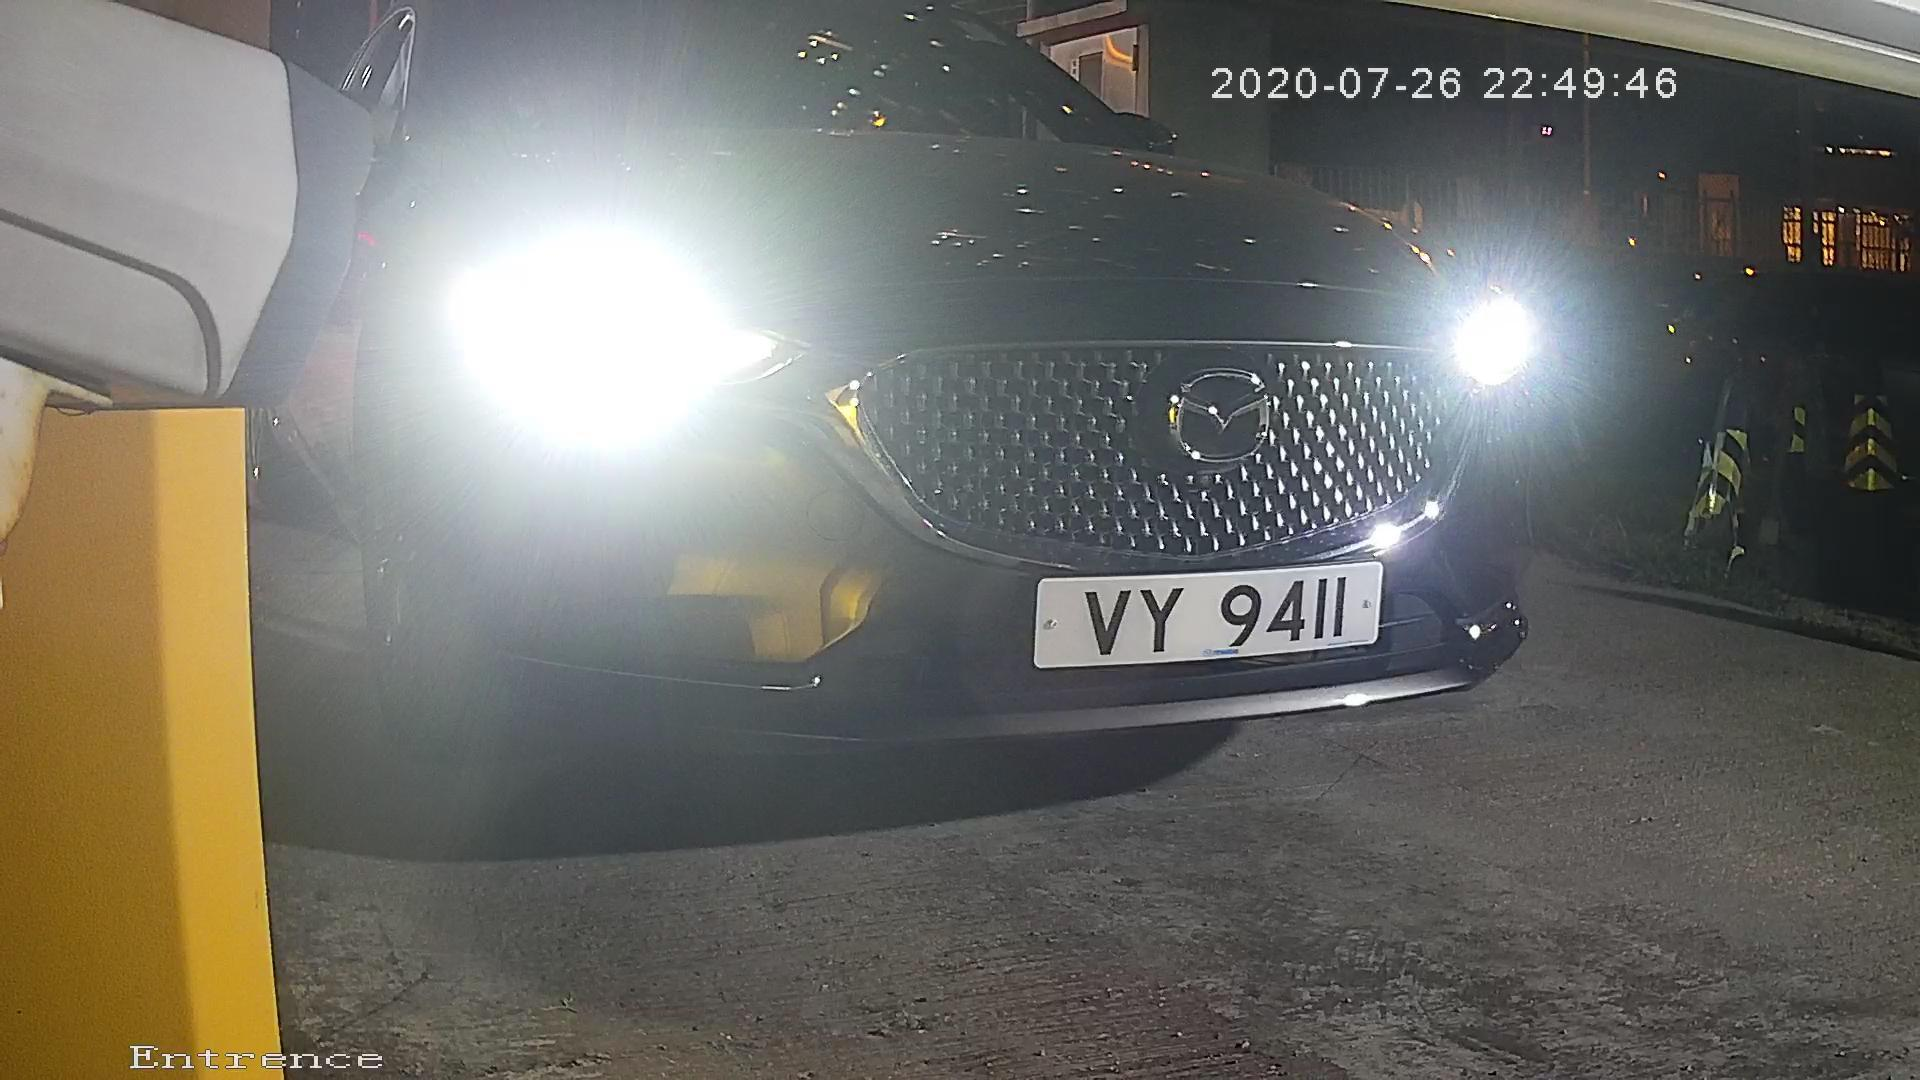License Plate: (986, 526, 1389, 685)
